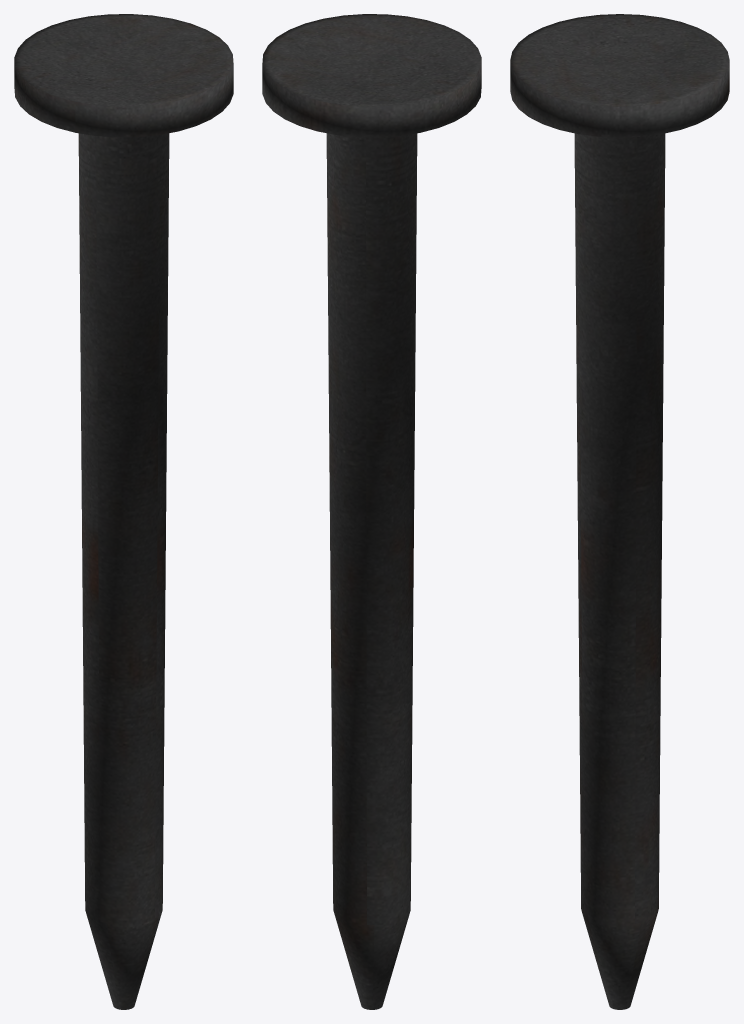
The model's file is Nail.glb.
3 renders of one model, left to right at view 1: azimuth 30°, elevation 25°; view 2: azimuth 150°, elevation 25°; view 3: azimuth 270°, elevation 25°, orthographic.
Visible parts, largest first — view 1: Cylinder.002; view 2: Cylinder.002; view 3: Cylinder.002.
Part boxes in pixels (x1,y1,x2,y2): Cylinder.002: (14,14,233,1009); Cylinder.002: (262,14,481,1009); Cylinder.002: (510,14,729,1009).
Size of the model in its own units: 0.0262 by 0.1245 by 0.0262.
Materials: 1 (1 with a texture image).
